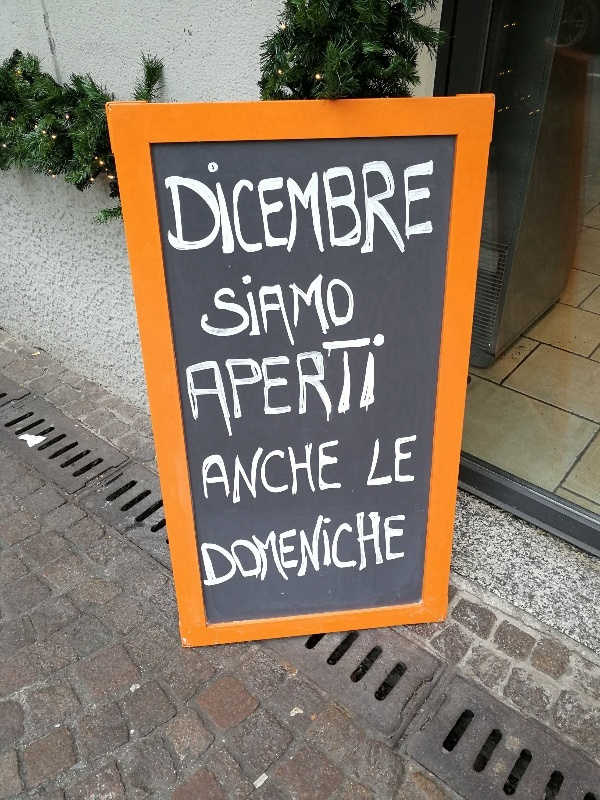text: (369, 333, 385, 446), (193, 333, 208, 446), (209, 333, 224, 446), (225, 333, 240, 446), (241, 333, 256, 446), (257, 333, 272, 446), (273, 333, 288, 446), (289, 333, 304, 446), (305, 333, 320, 446), (321, 333, 336, 446), (337, 333, 352, 446), (353, 333, 368, 446), (209, 499, 224, 608), (225, 499, 240, 608), (241, 499, 256, 608), (257, 499, 272, 608), (273, 499, 288, 608), (289, 499, 304, 608), (305, 499, 320, 608), (321, 499, 336, 608), (337, 499, 352, 608), (353, 499, 368, 608), (369, 499, 384, 608), (385, 499, 400, 608), (177, 159, 192, 258), (193, 159, 208, 258), (209, 159, 224, 258), (225, 159, 240, 258), (241, 159, 256, 258), (257, 159, 272, 258), (273, 159, 288, 258), (289, 159, 304, 258), (305, 159, 320, 258), (321, 159, 336, 258), (337, 159, 352, 258), (353, 159, 368, 258), (369, 159, 384, 258), (385, 159, 400, 258), (401, 159, 416, 258), (417, 159, 432, 258), (209, 271, 224, 357), (225, 271, 240, 357), (241, 271, 256, 357), (257, 271, 272, 357), (273, 271, 288, 357), (289, 271, 304, 357), (305, 271, 320, 357), (321, 271, 336, 357), (337, 271, 352, 357), (165, 159, 176, 258), (209, 440, 224, 510), (225, 440, 240, 510), (241, 440, 256, 510), (257, 440, 272, 510), (273, 440, 288, 510), (289, 440, 304, 510), (305, 440, 320, 510), (321, 440, 336, 510), (401, 434, 417, 486), (385, 434, 400, 486), (201, 499, 208, 608), (186, 333, 192, 446), (401, 499, 406, 608), (376, 434, 384, 486), (203, 440, 208, 510), (337, 440, 342, 510), (205, 271, 208, 357), (353, 271, 355, 357), (433, 159, 434, 258)
